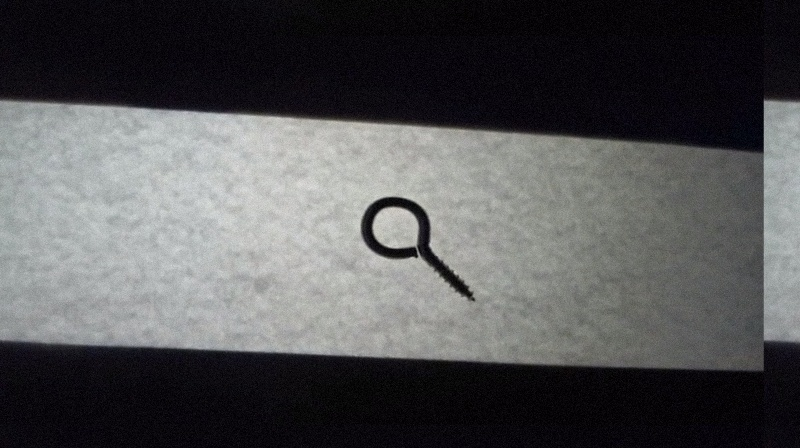O001: (357, 194, 475, 305)
